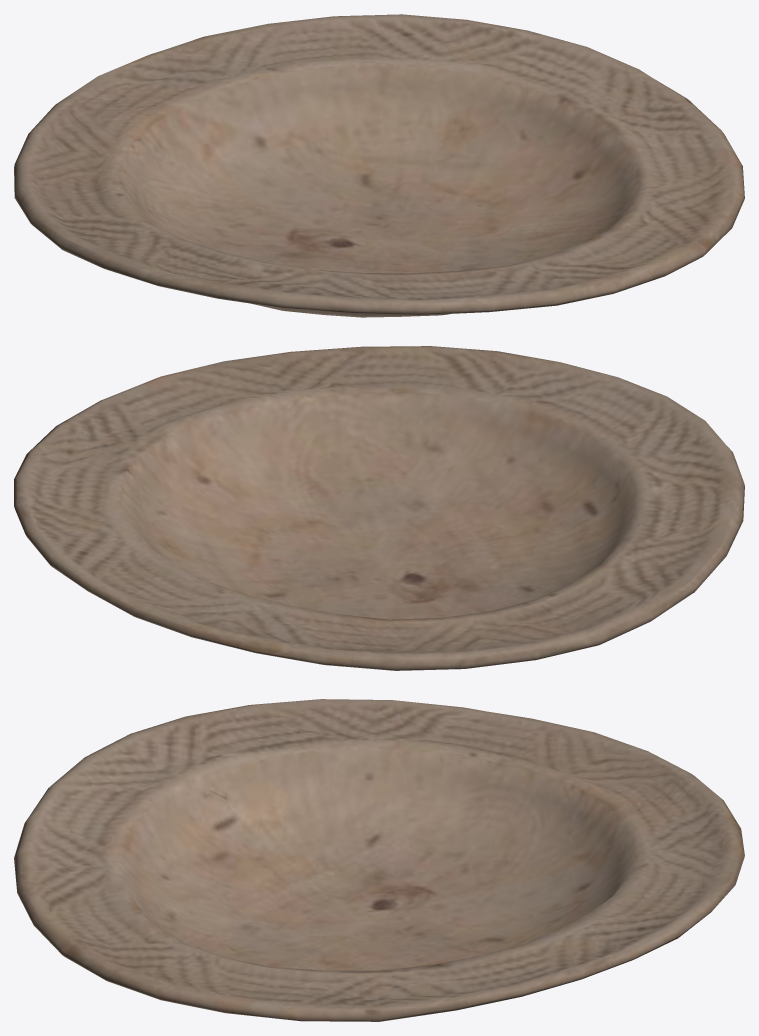
File: carved_wooden_plate.glb
The picture shows the model from 3 angles, top to bottom: view 1: azimuth 30°, elevation 25°; view 2: azimuth 150°, elevation 25°; view 3: azimuth 270°, elevation 25°; orthographic projection. The views are drawn at different scales.
Visible parts, largest first — view 1: carved_wooden_plate; view 2: carved_wooden_plate; view 3: carved_wooden_plate.
Part boxes in pixels (x1,y1,x2,y2): carved_wooden_plate: (14,14,744,317); carved_wooden_plate: (14,346,744,670); carved_wooden_plate: (14,699,744,1021).
Bounding box in the file's own units: 0.2718 × 0.0381 × 0.2689.
Materials: 1 (1 with a texture image).
